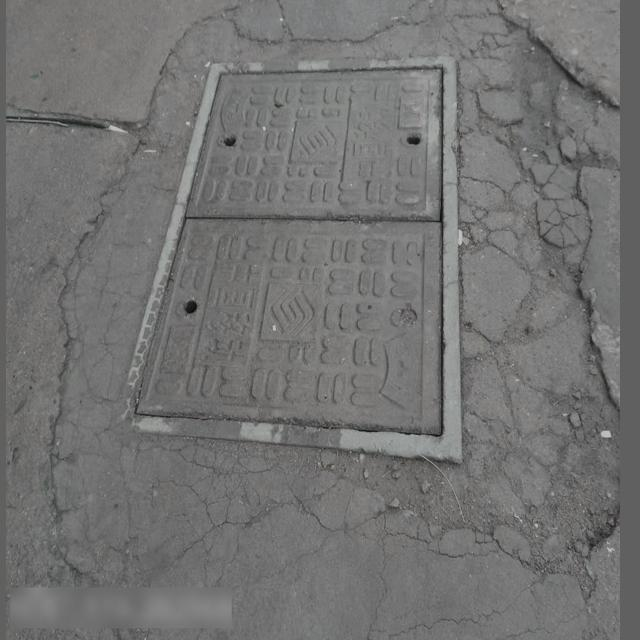good: (128, 58, 457, 430)
